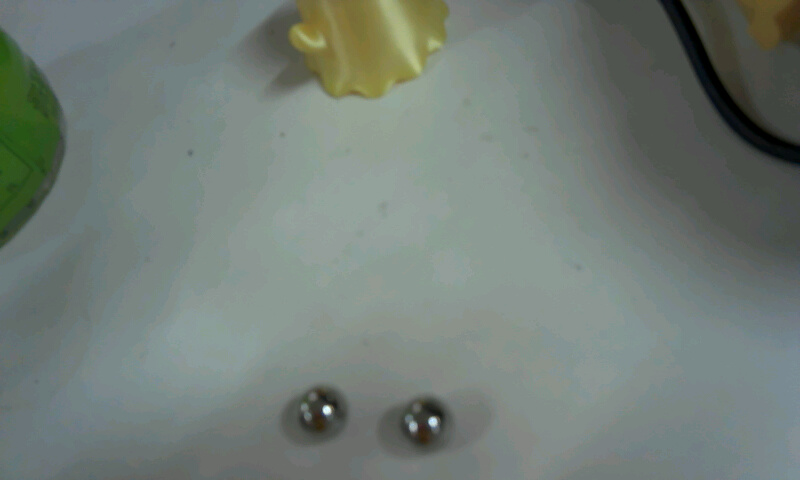steelball: (283, 376, 361, 448), (394, 384, 462, 455)
